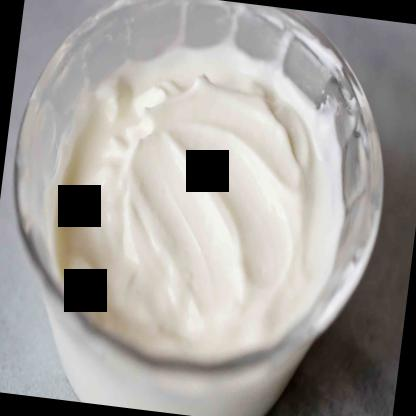yogurt: (25, 30, 365, 415)
